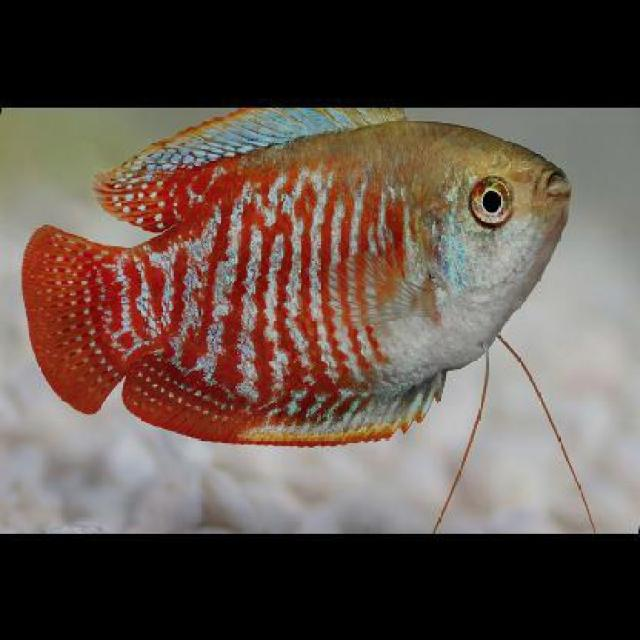Gourami: (19, 106, 575, 448)
